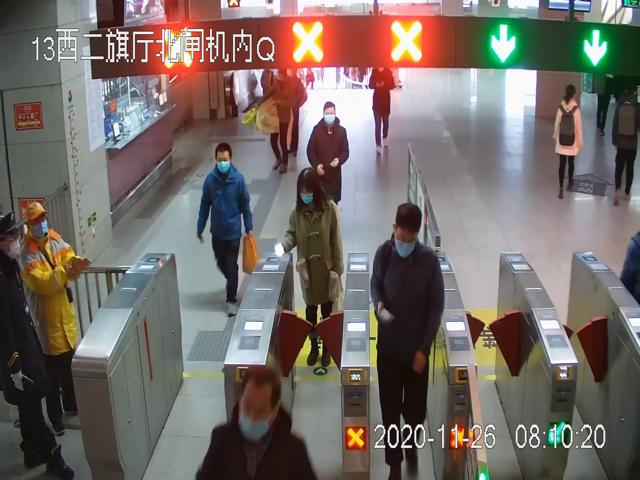person: (369, 205, 446, 480), (21, 201, 93, 437), (277, 168, 346, 363), (197, 143, 257, 316), (307, 102, 350, 211), (554, 84, 584, 198)
